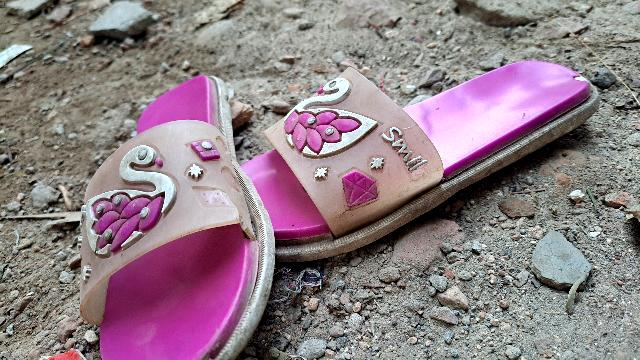sandal: (212, 0, 612, 279), (30, 72, 279, 360)
